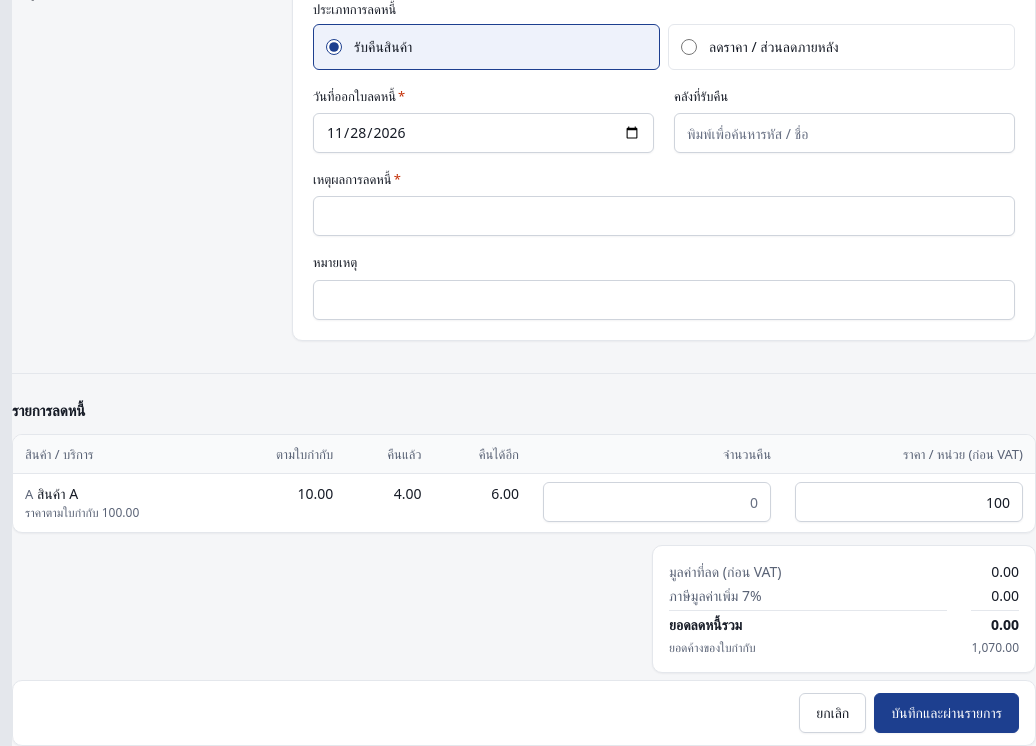
Test case: CreditNoteForm › รับคืน: จำนวนเกินที่คืนได้ (10 − 4) แจ้งที่ช่องและไม่ส่ง
Type "7" into the field labelled "จำนวนคืน A" at [657, 502], box [544,483,770,521]
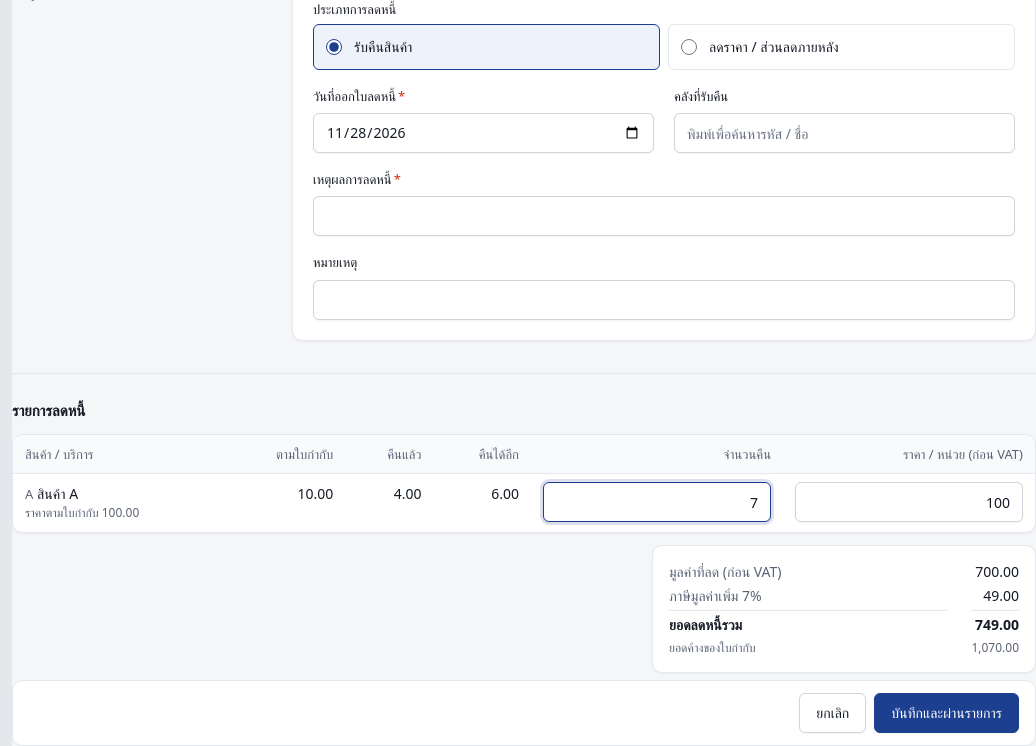
Type "สินค้าชำรุด" into the field labelled "เหตุผลการลดหนี้" at [664, 216], box [314,197,1014,235]
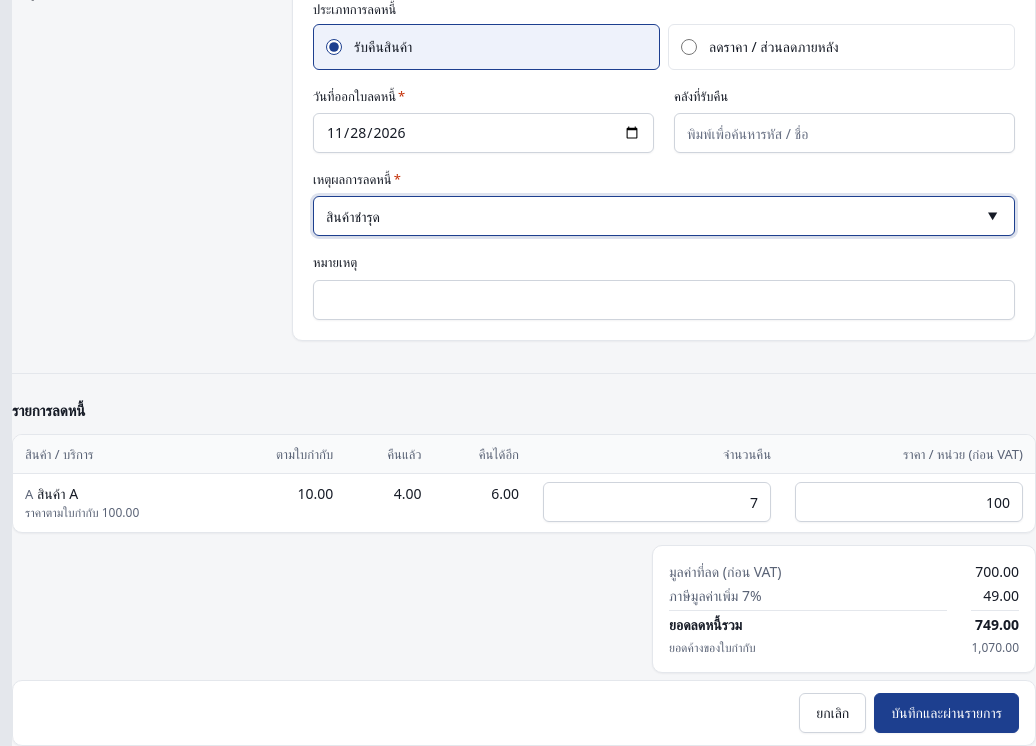
Click the button "บันทึกและผ่านรายการ" at [947, 713], box [874,693,1019,733]
(page scrolled)
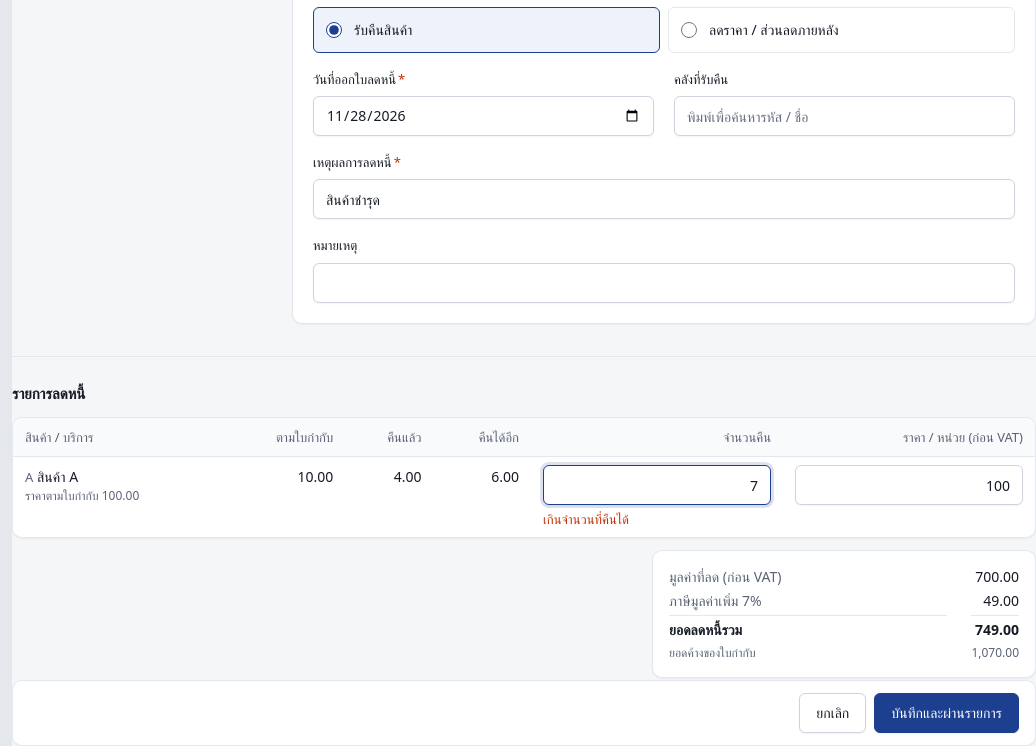
Expected: the text "เกินจำนวนที่คืนได้" is shown, [543,510,629,528]
